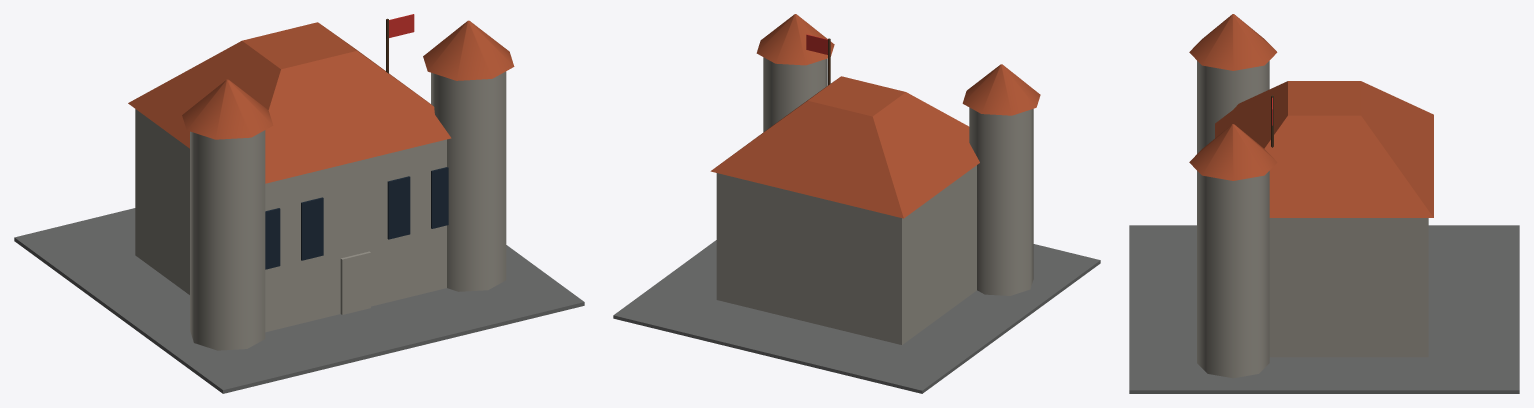
The model's file is bld_special_command_center_a04_lod1.glb.
3 renders of one model, left to right at view 1: azimuth 30°, elevation 25°; view 2: azimuth 150°, elevation 25°; view 3: azimuth 270°, elevation 25°, orthographic. The views are drawn at different scales.
Parts seen in each view (by area): view 1: body; view 2: body; view 3: body.
Boxes of the visible parts, box(x1,y1,x2,y2) form: body: box(14, 14, 584, 393); body: box(613, 14, 1100, 393); body: box(1129, 14, 1519, 393).
Size of the model in its own units: 15 by 10.3 by 15.
